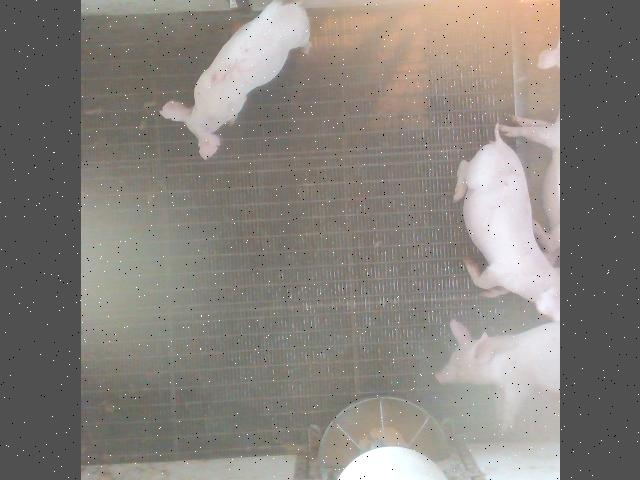pig-5: (159, 0, 309, 159)
